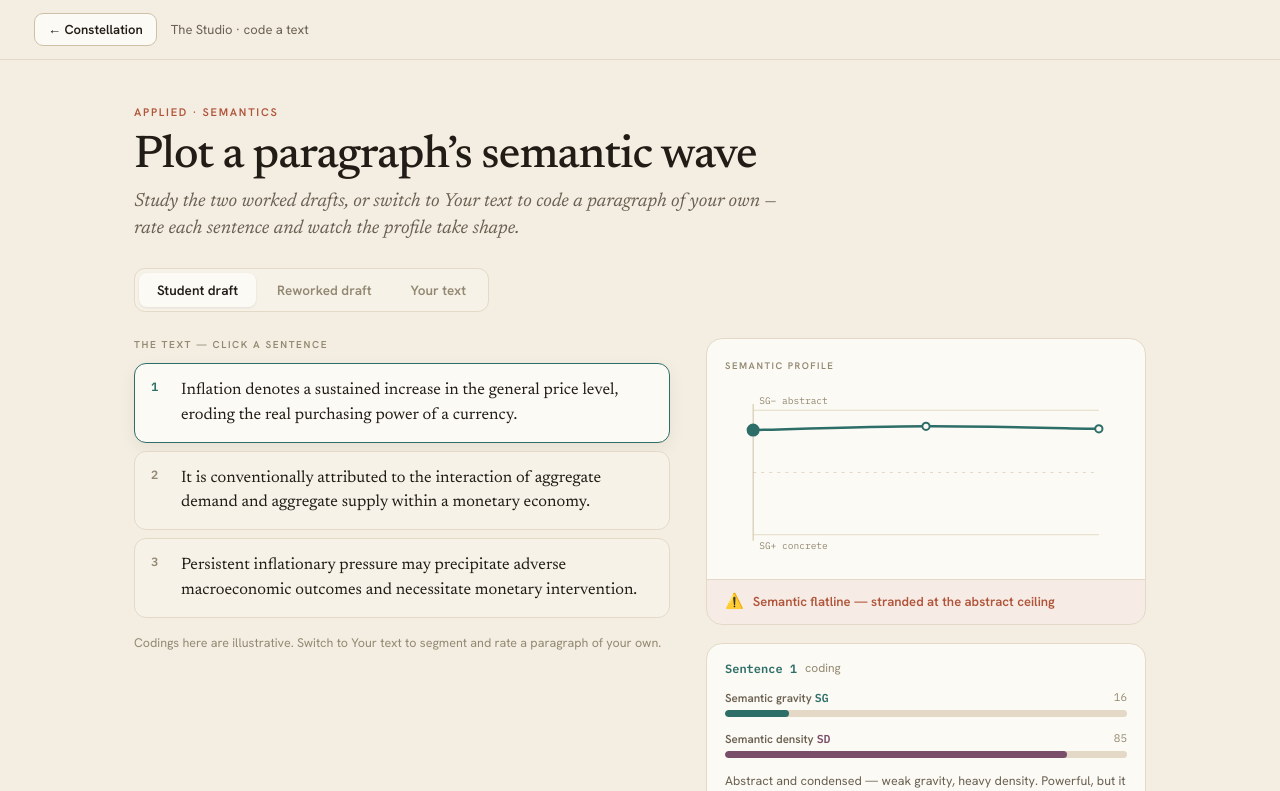
Wavelength views mount cleanly › renders the Studio and toggles between drafts
Expected: the heading "Plot a paragraph’s semantic wave" is shown, 134,133 -> 757,179
Click the button "Reworked draft": (324, 290) 259,273 -> 390,307
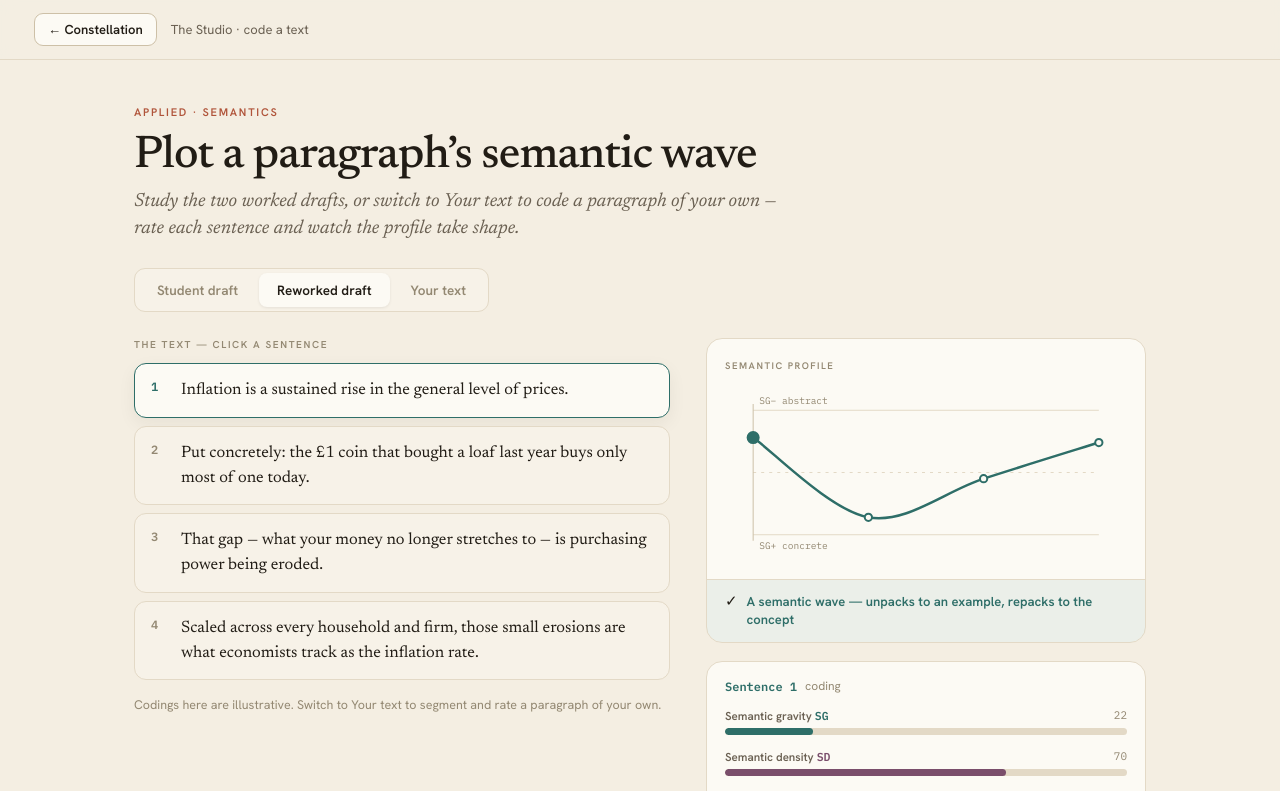
Expected: the text "economists track as the inflation rate" is shown, 181,620 -> 626,661
